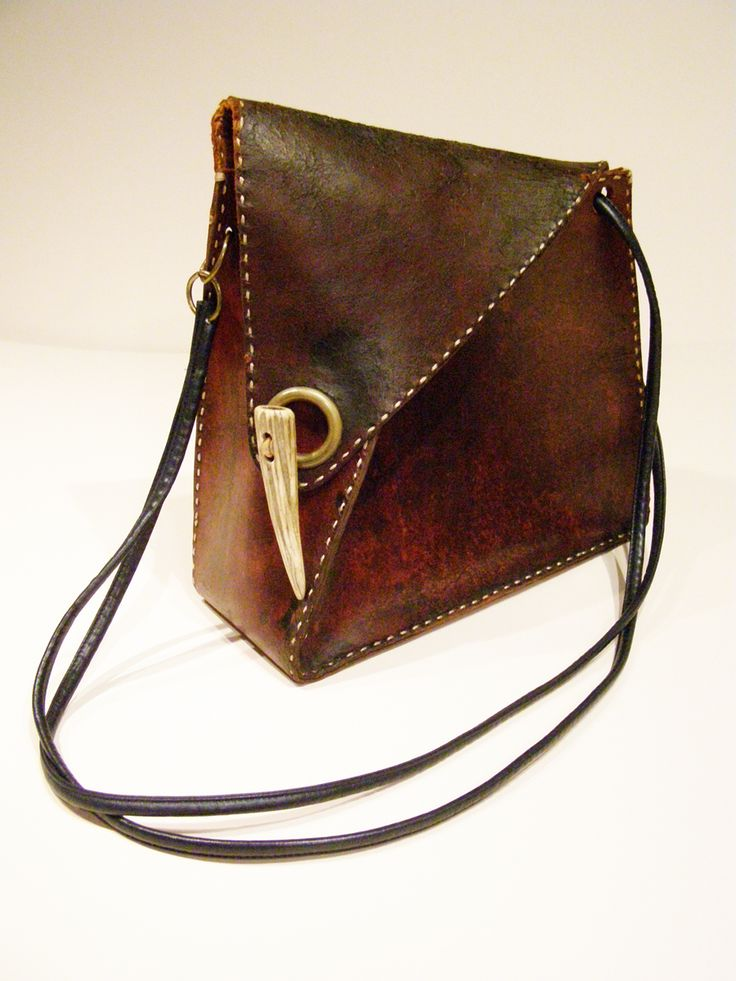cuero: (33, 94, 667, 862)
